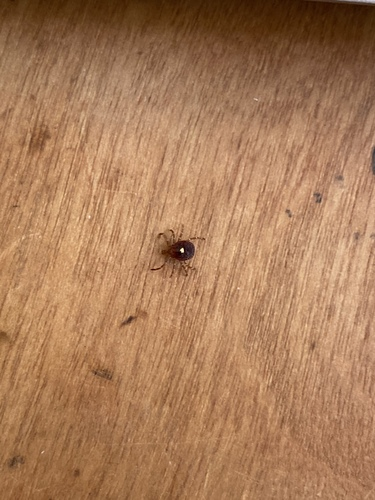dog tick: (120, 306, 147, 330)
